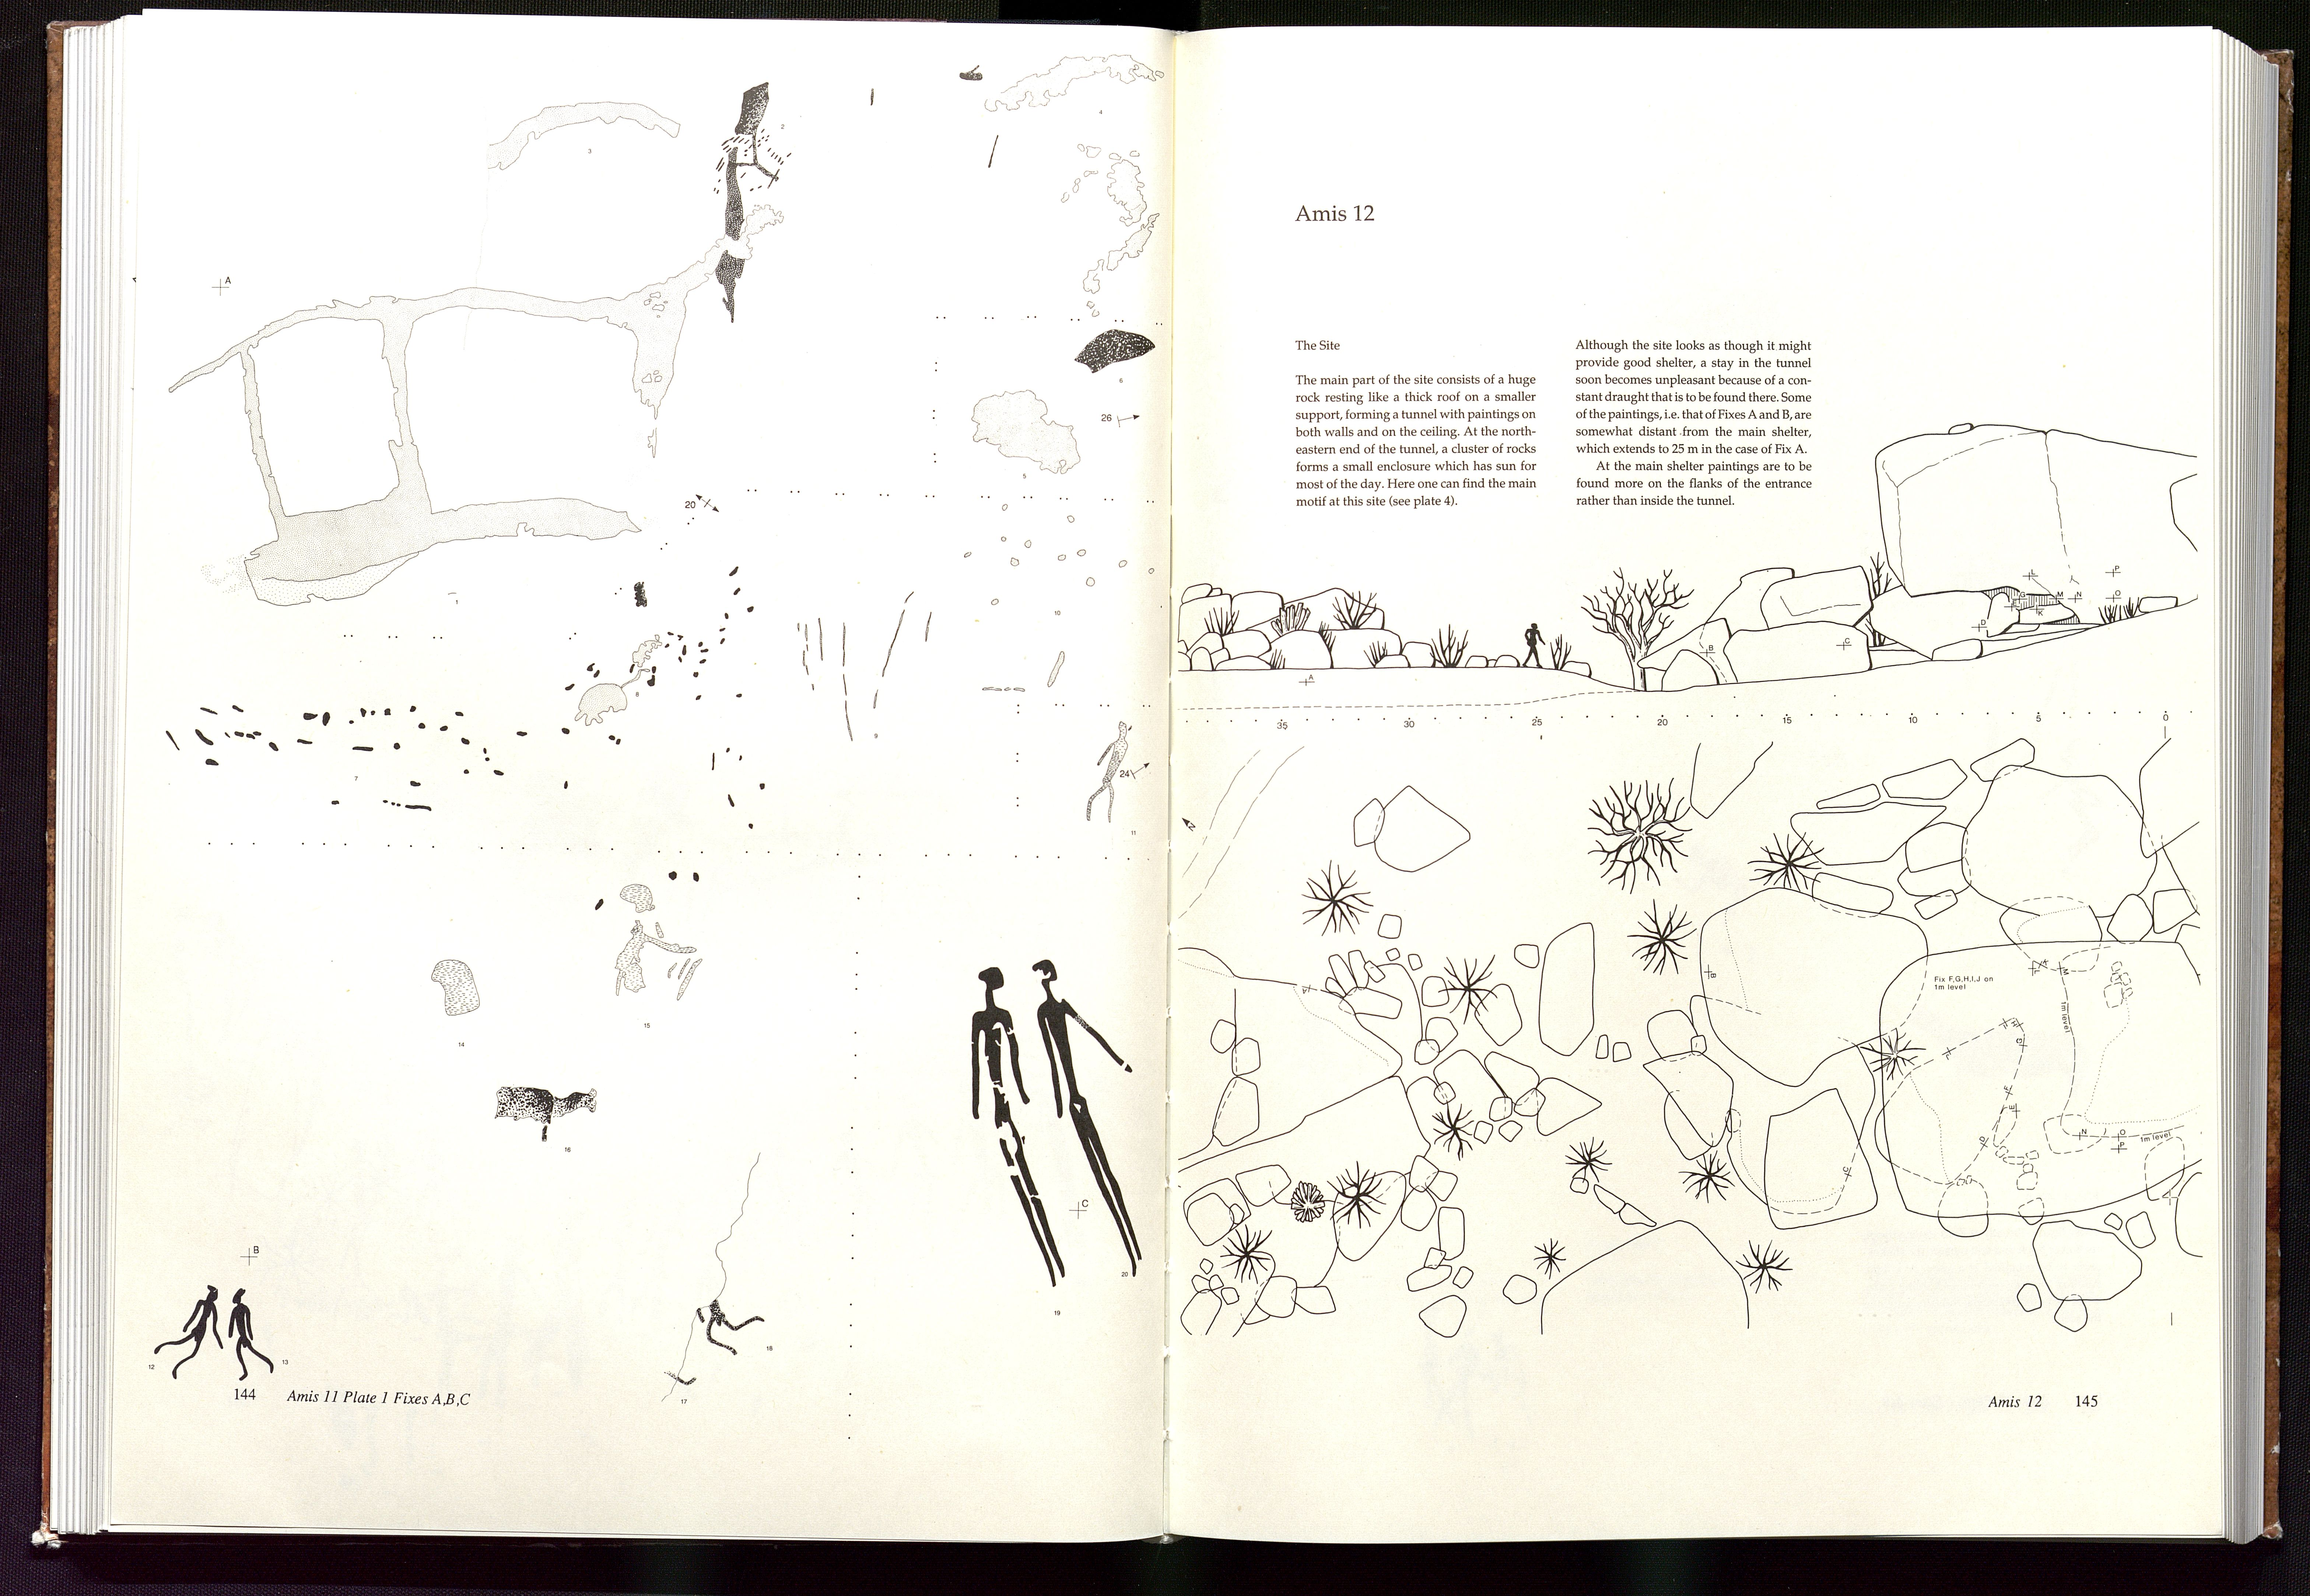human: (1023, 956, 1158, 1285), (950, 954, 1075, 1298), (149, 1283, 230, 1381), (215, 1276, 279, 1386)
